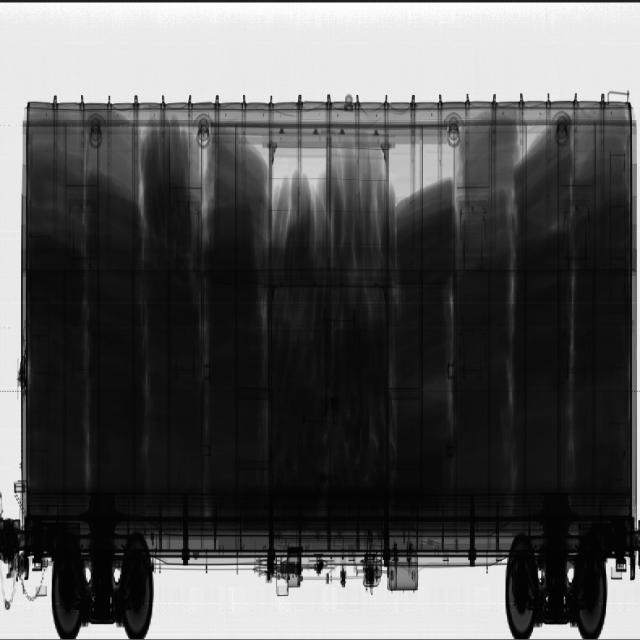fabrics: (30, 108, 629, 495)
